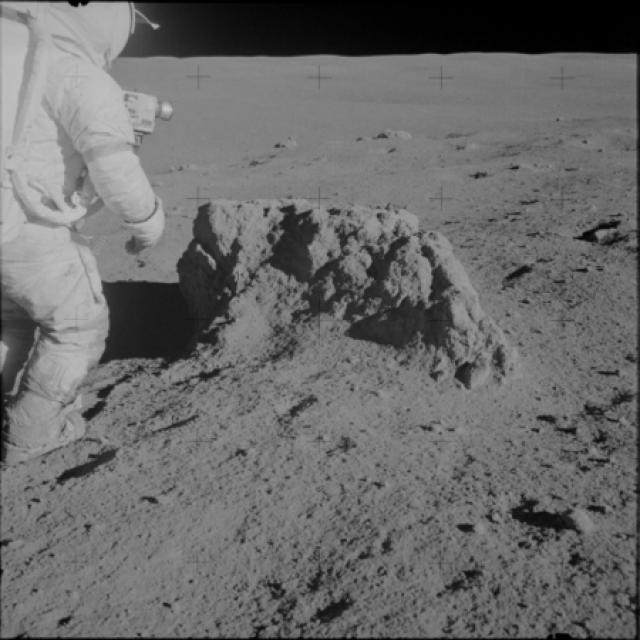crater: (556, 210, 636, 255), (569, 122, 639, 169), (284, 588, 357, 626), (542, 501, 597, 542)
rock: (154, 185, 543, 398), (358, 124, 420, 150), (270, 134, 302, 150)
